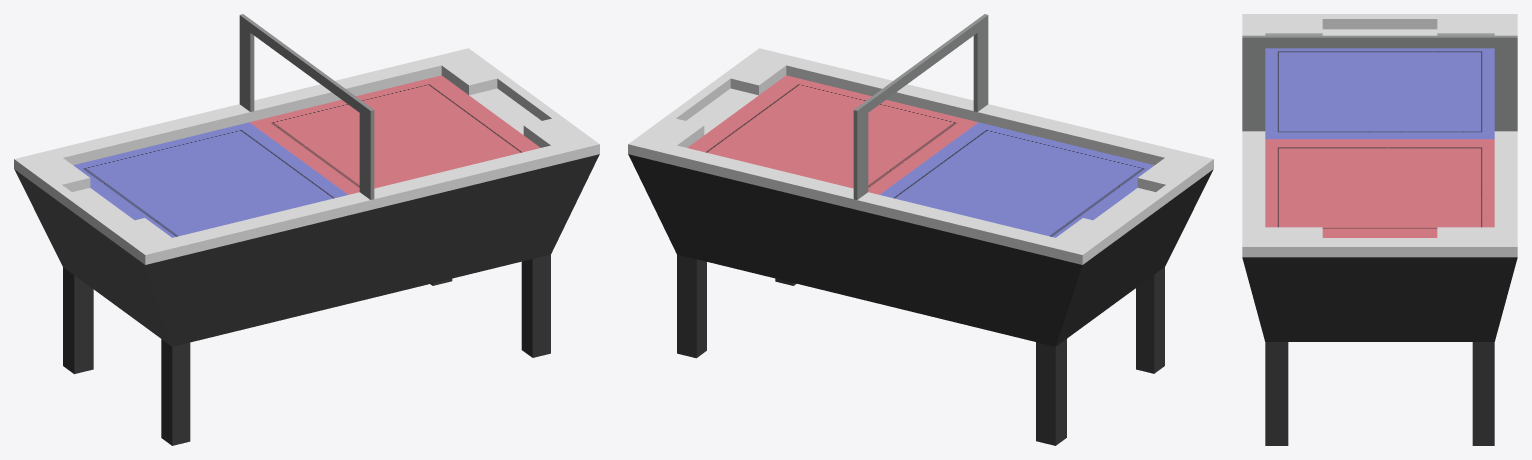
Rendered from AirHockey.fbx.
3 views of the same model, side by side, from view 1: azimuth 30°, elevation 25°; view 2: azimuth 150°, elevation 25°; view 3: azimuth 270°, elevation 25° (orthographic). The views are drawn at different scales.
Parts seen in each view (by area): view 1: Field; view 2: Field; view 3: Field.
Boxes of the visible parts, box(x1,y1,x2,y2) form: Field: box(14, 14, 599, 445); Field: box(628, 14, 1213, 445); Field: box(1242, 14, 1517, 445).
Bounding box in the file's own units: 2.4 × 1.5 × 1.2.
1 material, 1 textured.
